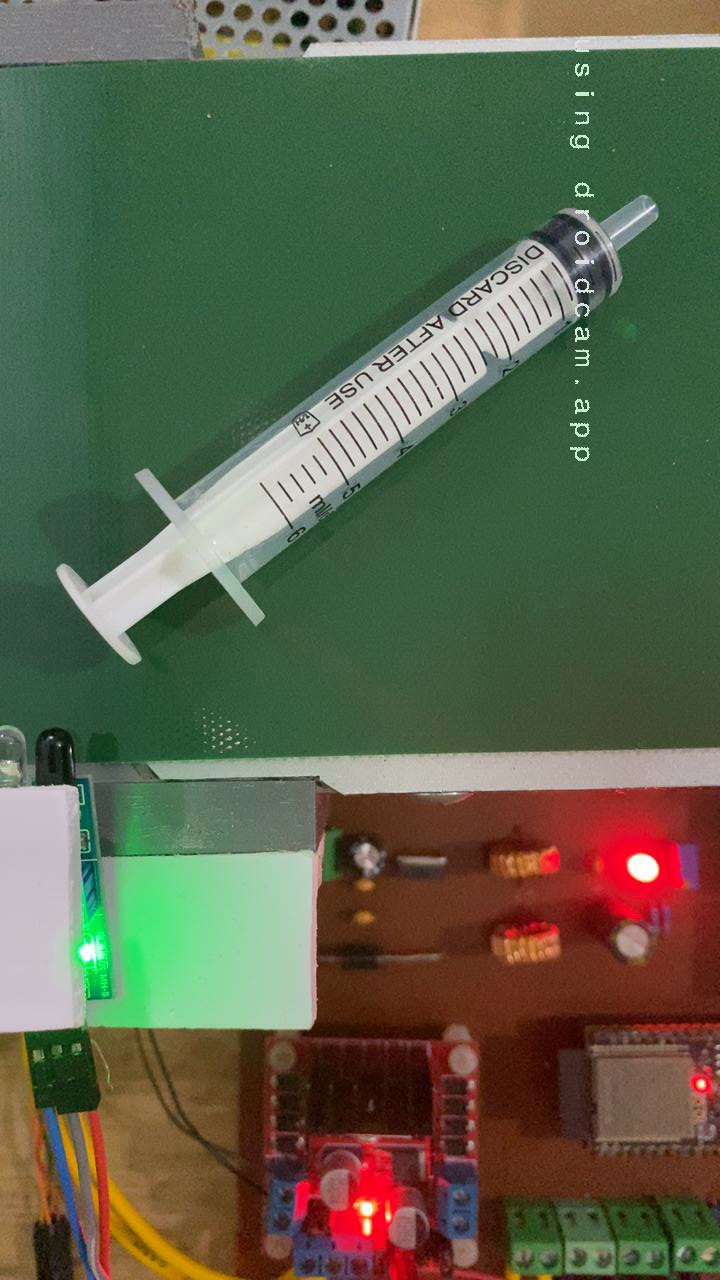syringe: (49, 198, 663, 672)
